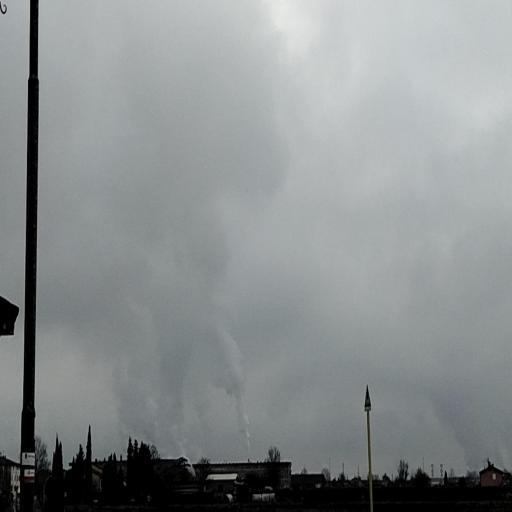leakage: (65, 215, 255, 480)
